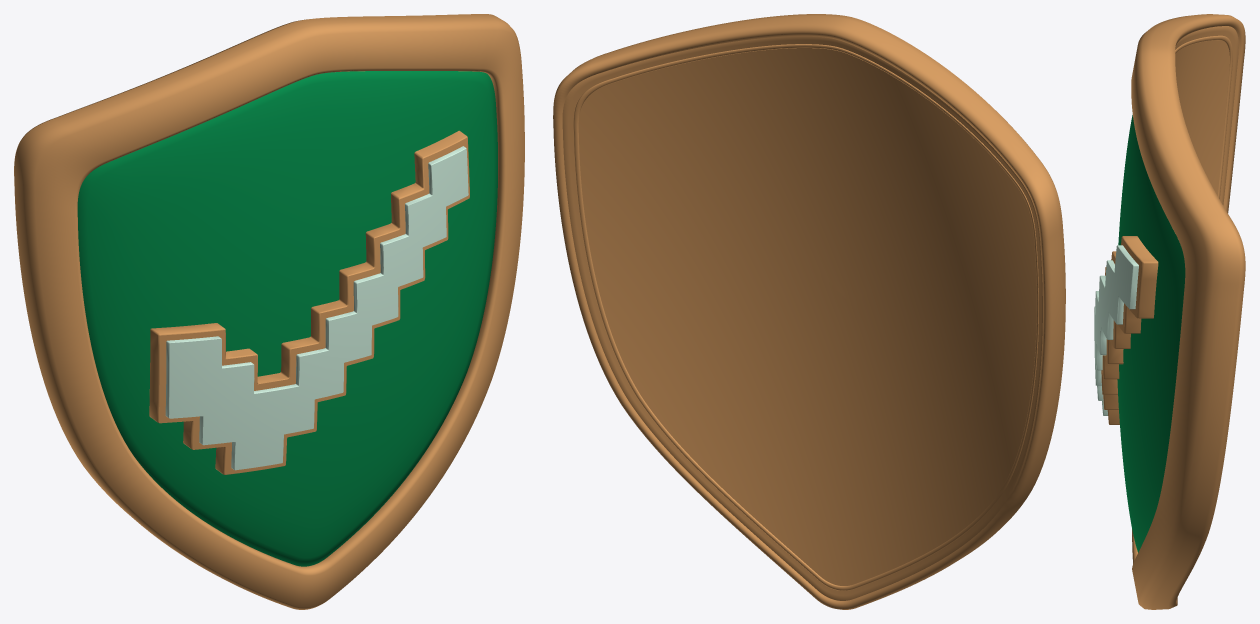
The model's file is first-picks.glb.
3 views of the same model, side by side, from view 1: azimuth 30°, elevation 25°; view 2: azimuth 150°, elevation 25°; view 3: azimuth 270°, elevation 25° (orthographic). The views are drawn at different scales.
Parts seen in each view (by area): view 1: acrylic_lime_face_002, metal_shield_frame_002, ivory_pixel_check_face, metal_pixel_check_outline; view 2: satin_shield_back_002, metal_shield_frame_002, satin_rear_border_002; view 3: metal_shield_frame_002, acrylic_lime_face_002, satin_shield_back_002, metal_pixel_check_outline, ivory_pixel_check_face, satin_rear_border_002.
Boxes of the visible parts, x1=… form: acrylic_lime_face_002: x1=77, y1=71, x2=497, y2=566; metal_shield_frame_002: x1=14, y1=14, x2=524, y2=609; ivory_pixel_check_face: x1=165, y1=146, x2=468, y2=470; metal_pixel_check_outline: x1=149, y1=130, x2=469, y2=474; satin_shield_back_002: x1=562, y1=36, x2=1042, y2=600; metal_shield_frame_002: x1=553, y1=14, x2=1065, y2=609; satin_rear_border_002: x1=573, y1=44, x2=1038, y2=590; metal_shield_frame_002: x1=1131, y1=14, x2=1245, y2=609; acrylic_lime_face_002: x1=1117, y1=115, x2=1185, y2=552; satin_shield_back_002: x1=1175, y1=26, x2=1238, y2=205; metal_pixel_check_outline: x1=1101, y1=236, x2=1158, y2=424; ivory_pixel_check_face: x1=1094, y1=245, x2=1138, y2=415; satin_rear_border_002: x1=1175, y1=35, x2=1232, y2=198.
Bounding box in the file's own units: 1.88 × 2.1 × 0.519.
